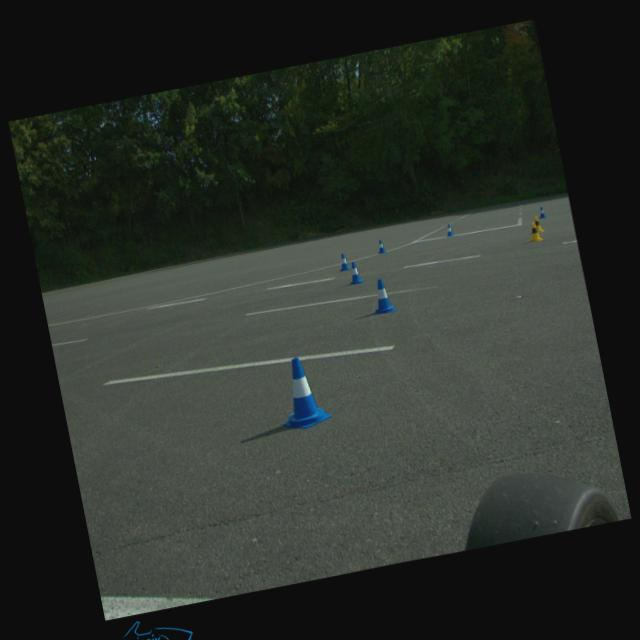blue_cone: (272, 353, 334, 432), (369, 276, 397, 316), (346, 260, 364, 284), (338, 252, 352, 272), (376, 240, 386, 253), (445, 224, 454, 236), (538, 206, 546, 218)
yellow_cone: (526, 221, 543, 243), (534, 215, 545, 233)
